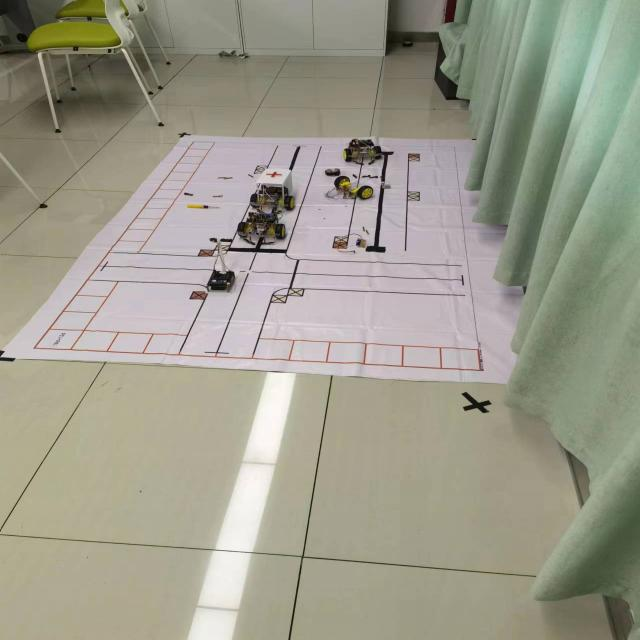RedCross: (265, 170, 283, 179)
